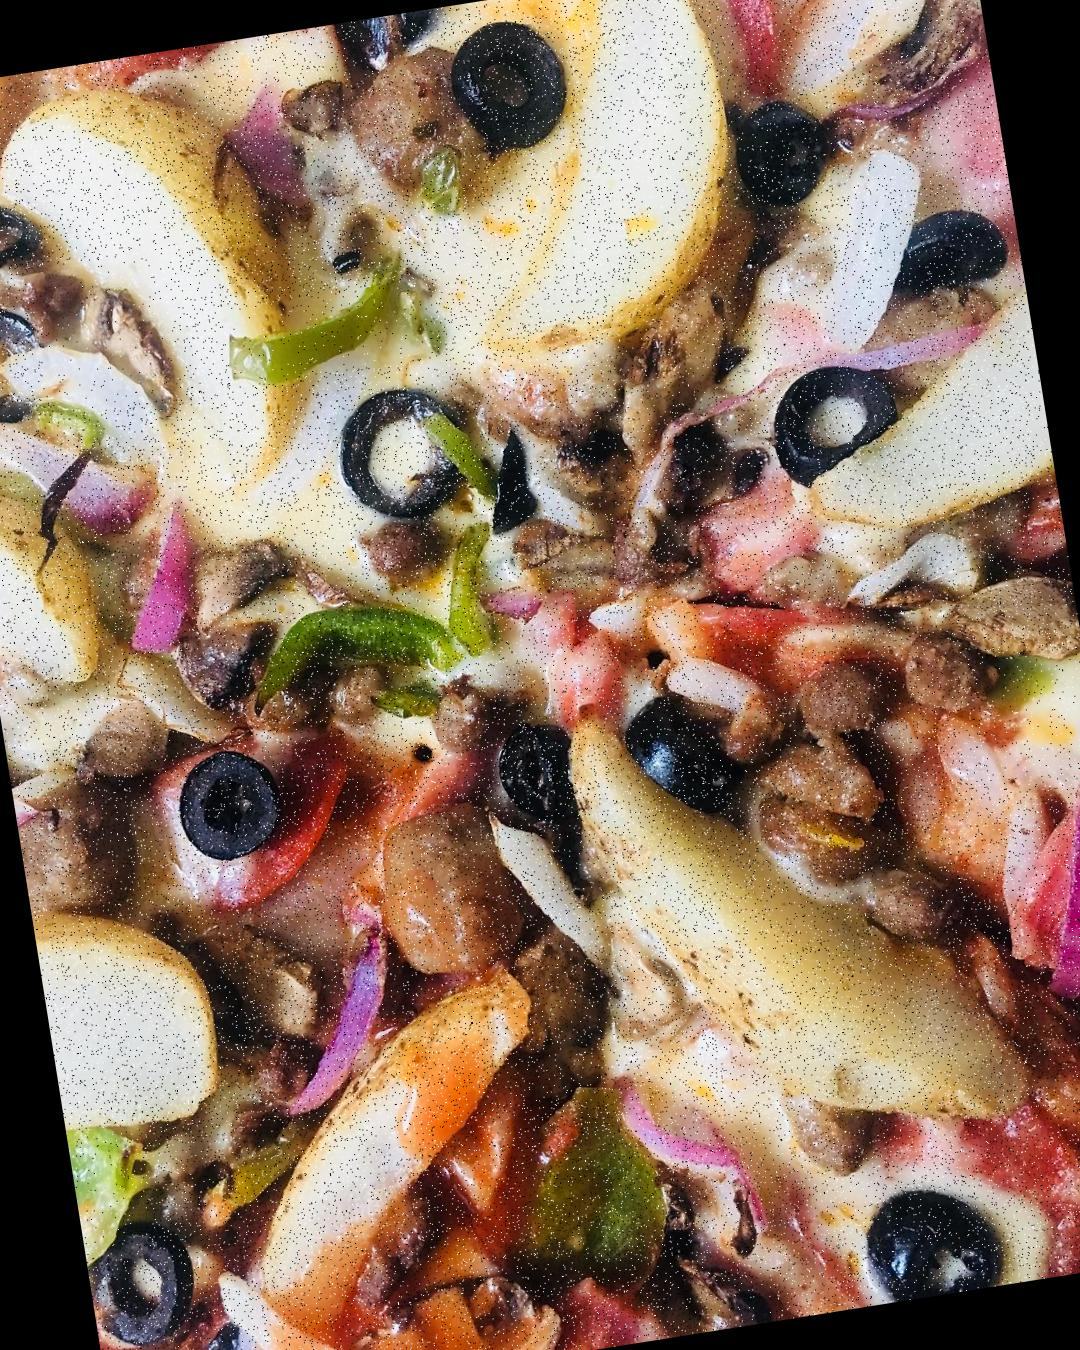Mushroom: (29, 250, 180, 418), (608, 299, 735, 444)
Olives: (334, 385, 474, 522), (441, 14, 574, 153), (860, 1180, 1007, 1305), (767, 357, 905, 486), (619, 688, 745, 825), (168, 741, 289, 870), (85, 1216, 202, 1349), (894, 205, 1012, 298), (732, 100, 825, 206), (490, 719, 582, 824), (0, 303, 55, 431), (0, 197, 48, 276)
Peppers: (249, 904, 415, 1125), (637, 563, 903, 683), (246, 588, 458, 708), (220, 279, 438, 387), (606, 1057, 754, 1197), (107, 494, 212, 665), (1012, 755, 1080, 1009), (521, 586, 630, 724), (975, 649, 1080, 790), (66, 1123, 152, 1266), (434, 512, 515, 652)
Pizza: (0, 0, 1080, 1350)
